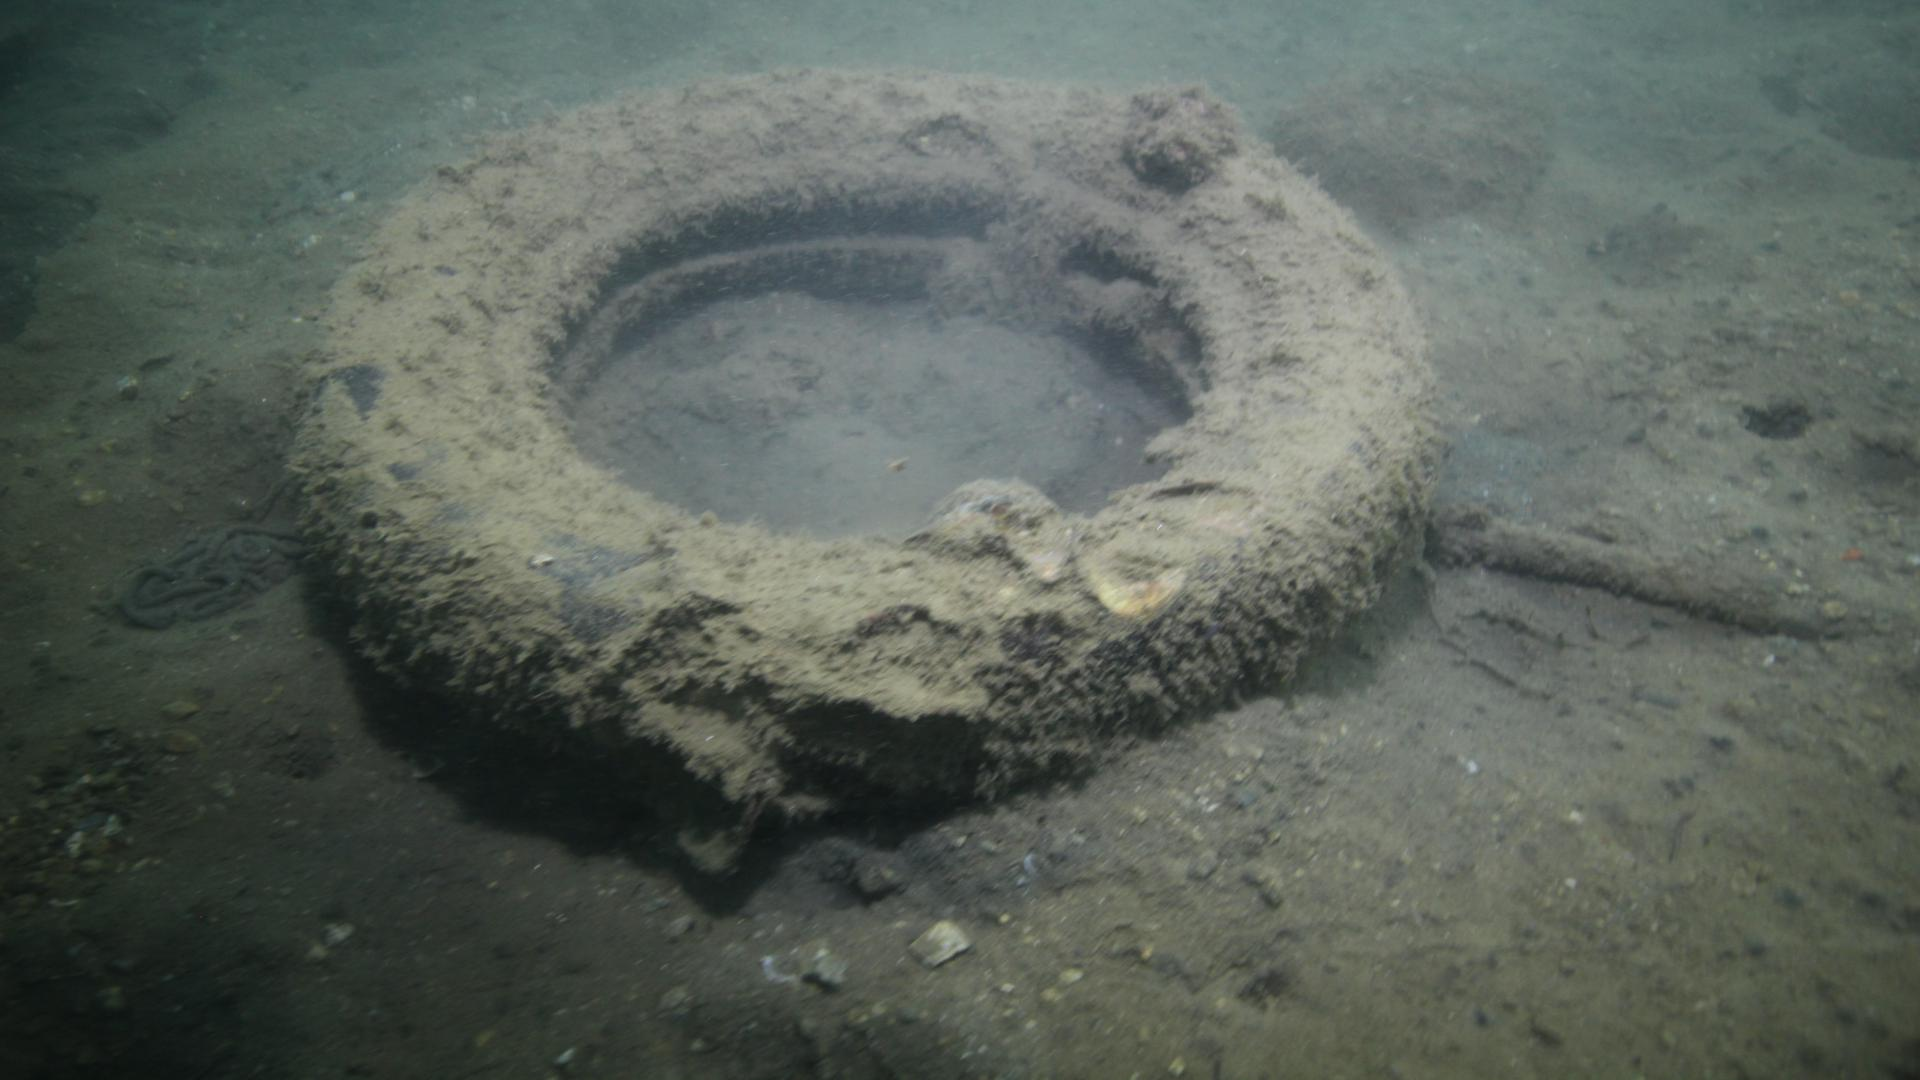tire: (293, 61, 1433, 837)
